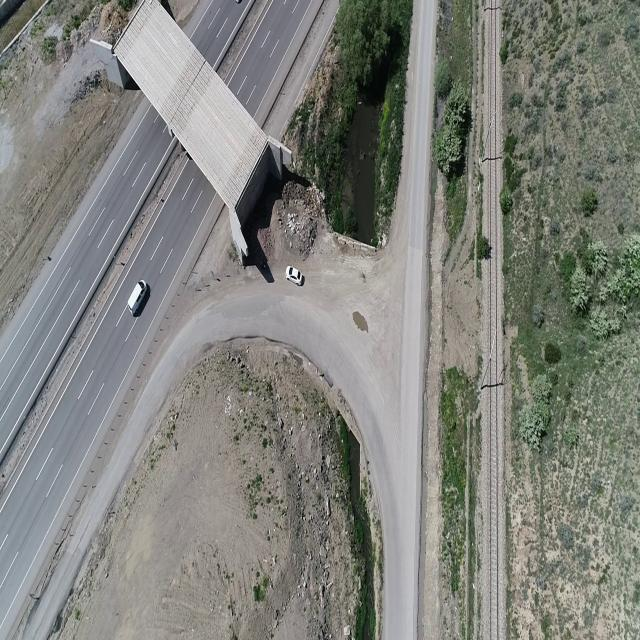vehicle: (125, 276, 148, 317), (286, 266, 302, 288)
